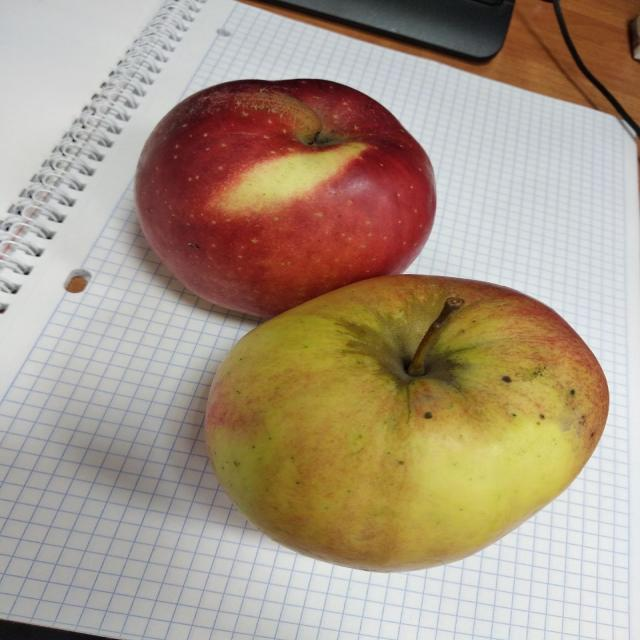Fresh Apple: (240, 295, 595, 572), (135, 73, 425, 310)
